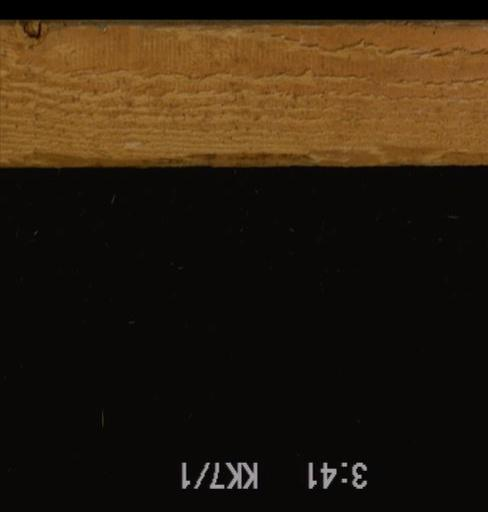edge_knot: (15, 18, 45, 40)
wave: (0, 150, 486, 168)
